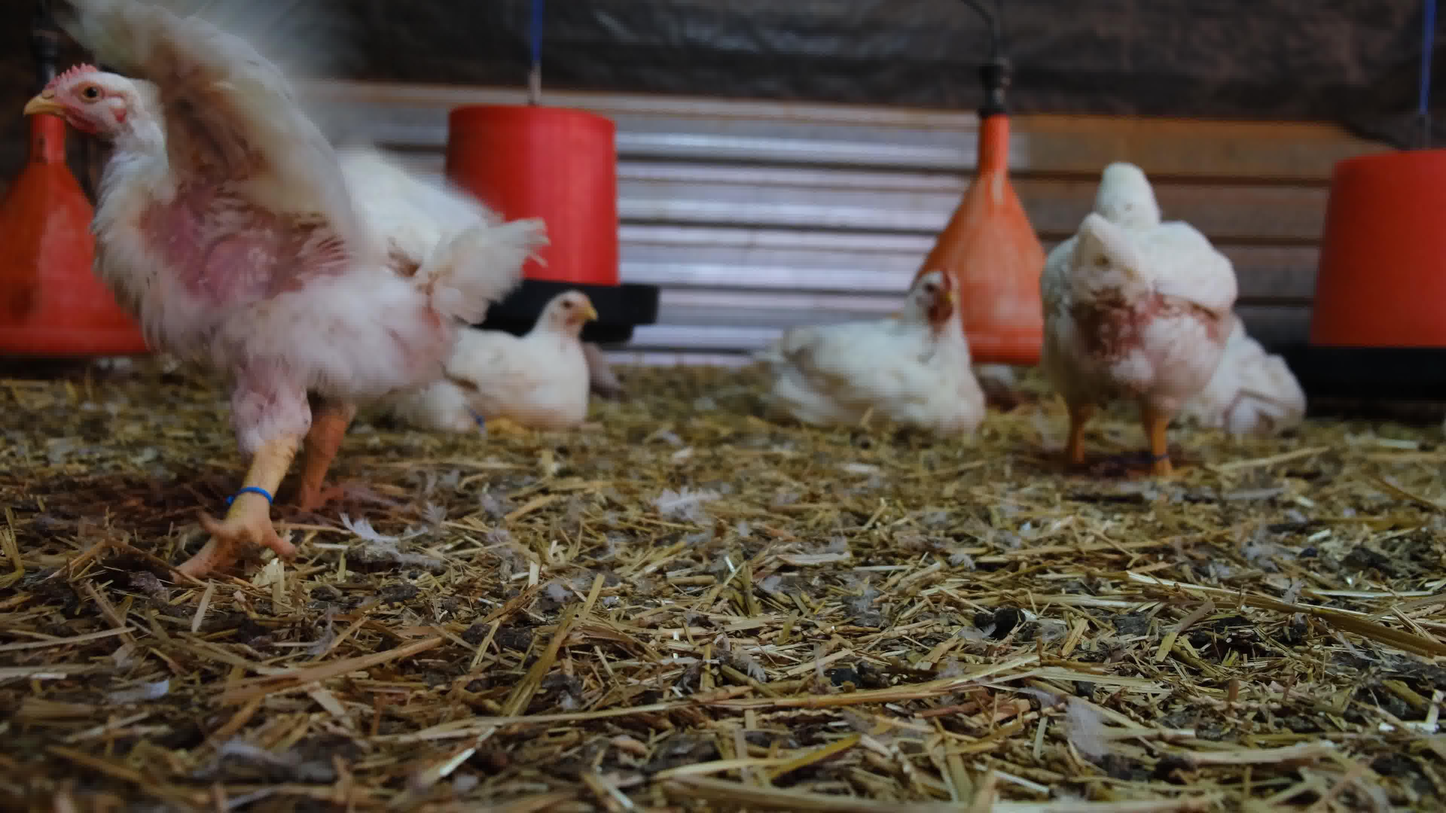AbNormal: (770, 263, 994, 457), (482, 290, 648, 433), (1213, 316, 1318, 442)
Normal: (19, 34, 529, 589), (1054, 139, 1261, 506)
